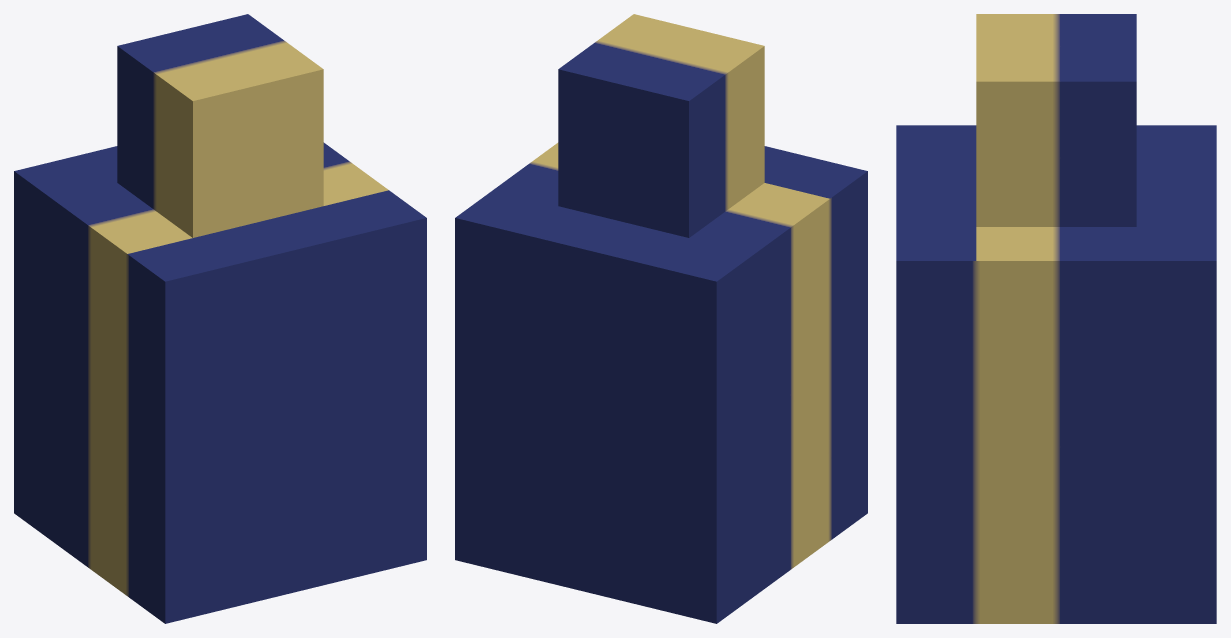
Rendered from Hip068.fbx.
The picture shows the model from 3 angles, left to right: view 1: azimuth 30°, elevation 25°; view 2: azimuth 150°, elevation 25°; view 3: azimuth 270°, elevation 25°; orthographic projection. The views are drawn at different scales.
Parts seen in each view (by area): view 1: Hip068; view 2: Hip068; view 3: Hip068.
Boxes of the visible parts, x1,y1,x2,y2 form: Hip068: (14,14,426,623); Hip068: (455,14,867,623); Hip068: (896,14,1216,623).
Size of the model in its own units: 4 by 7 by 4.
